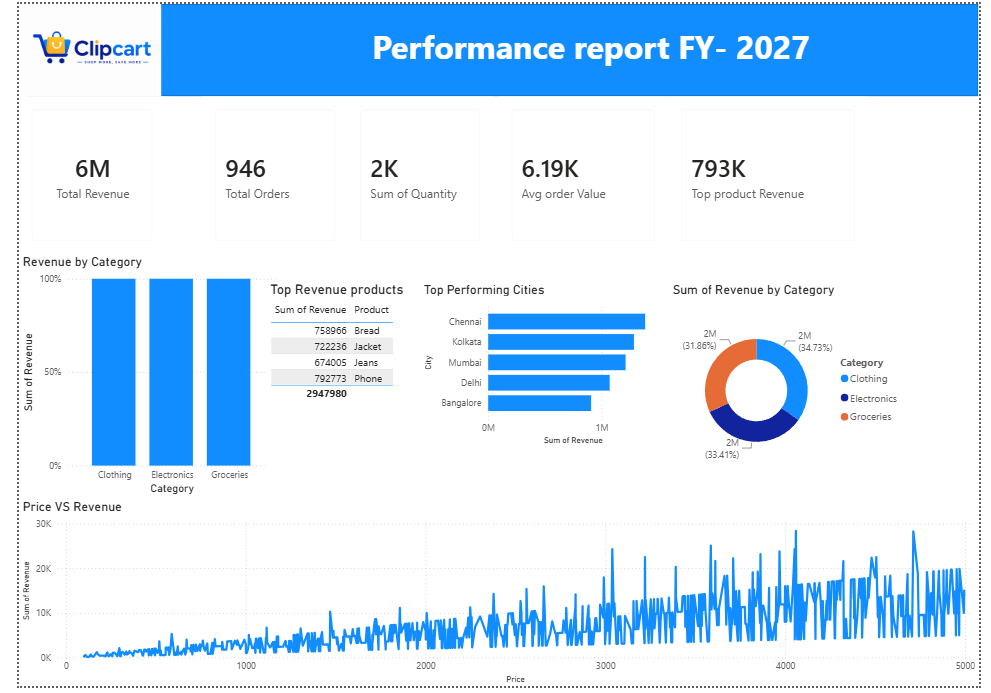

What the dashboard file says about the page in this screenshot:
{"tool":"powerbi","page":{"name":"Page 1","canvas":[1280,910],"ordinal":0},"visuals":[{"type":"shape","box":[10.7,0,1269,122.8],"z":0},{"type":"image","box":[0,0,195,123.3],"z":1000},{"type":"textbox","box":[444.9,21.4,635.4,71.2],"z":2000},{"type":"cardVisual","fields":{"Data":["Sum(1777445128882-harrykart_ecommerce_data.Revenue)"]},"box":[0,123.3,195,210],"z":3000},{"type":"lineChart","title":"Price VS Revenue","fields":{"Y":["Sum(1777445128882-harrykart_ecommerce_data.Revenue)"],"Category":["1777445128882-harrykart_ecommerce_data.Price"]},"box":[0,659.4,1279.7,251.3],"z":4000},{"type":"hundredPercentStackedColumnChart","title":"Revenue by Category","fields":{"Category":["1777445128882-harrykart_ecommerce_data.Category"],"Y":["Sum(1777445128882-harrykart_ecommerce_data.Revenue)"]},"box":[0,333.3,347.5,326.2],"z":5000},{"type":"tableEx","title":"Top Revenue products","fields":{"Values":["Sum(1777445128882-harrykart_ecommerce_data.Revenue)","1777445128882-harrykart_ecommerce_data.Product"]},"box":[330,370,230,256.7],"z":5001},{"type":"cardVisual","fields":{"Data":["CountNonNull(1777445128882-harrykart_ecommerce_data.Revenue)"]},"box":[245,123.3,193.3,210],"z":5002},{"type":"cardVisual","fields":{"Data":["Sum(1777445128882-harrykart_ecommerce_data.Quantity)"]},"box":[438.3,123.3,193.3,210],"z":5003},{"type":"clusteredBarChart","title":"Top Performing Cities","fields":{"Category":["1777445128882-harrykart_ecommerce_data.City"],"Y":["Sum(1777445128882-harrykart_ecommerce_data.Revenue)"]},"box":[535,370,331.7,223.3],"z":5004},{"type":"cardVisual","fields":{"Data":["1777445128882-harrykart_ecommerce_data.Avg order Value"]},"box":[640,123.3,225,210],"z":5005},{"type":"donutChart","fields":{"Category":["1777445128882-harrykart_ecommerce_data.Category"],"Y":["Sum(1777445128882-harrykart_ecommerce_data.Revenue)"]},"box":[866.7,370,318.3,271.7],"z":5006},{"type":"cardVisual","fields":{"Data":["1777445128882-harrykart_ecommerce_data.Top product Revenue"]},"box":[866.7,123.3,265,210],"z":5007}]}

Visuals, with their boxes in screenshot pixels (x1, y1, x2, y2), scaled from the page's 1280x910 canvas onto the 991x693 screenshot:
shape: pyautogui.locateOnScreen(8, 0, 990, 94)
image: pyautogui.locateOnScreen(0, 0, 151, 94)
textbox: pyautogui.locateOnScreen(344, 16, 836, 71)
cardVisual - Sum(1777445128882-harrykart_ecommerce_data.Revenue): pyautogui.locateOnScreen(0, 94, 151, 254)
"Price VS Revenue" lineChart: pyautogui.locateOnScreen(0, 502, 990, 692)
"Revenue by Category" hundredPercentStackedColumnChart: pyautogui.locateOnScreen(0, 254, 269, 502)
"Top Revenue products" tableEx: pyautogui.locateOnScreen(255, 282, 434, 477)
cardVisual - CountNonNull(1777445128882-harrykart_ecommerce_data.Revenue): pyautogui.locateOnScreen(190, 94, 339, 254)
cardVisual - Sum(1777445128882-harrykart_ecommerce_data.Quantity): pyautogui.locateOnScreen(339, 94, 489, 254)
"Top Performing Cities" clusteredBarChart: pyautogui.locateOnScreen(414, 282, 671, 452)
cardVisual - 1777445128882-harrykart_ecommerce_data.Avg order Value: pyautogui.locateOnScreen(496, 94, 670, 254)
donutChart - 1777445128882-harrykart_ecommerce_data.Category x Sum(1777445128882-harrykart_ecommerce_data.Revenue): pyautogui.locateOnScreen(671, 282, 917, 489)
cardVisual - 1777445128882-harrykart_ecommerce_data.Top product Revenue: pyautogui.locateOnScreen(671, 94, 876, 254)
